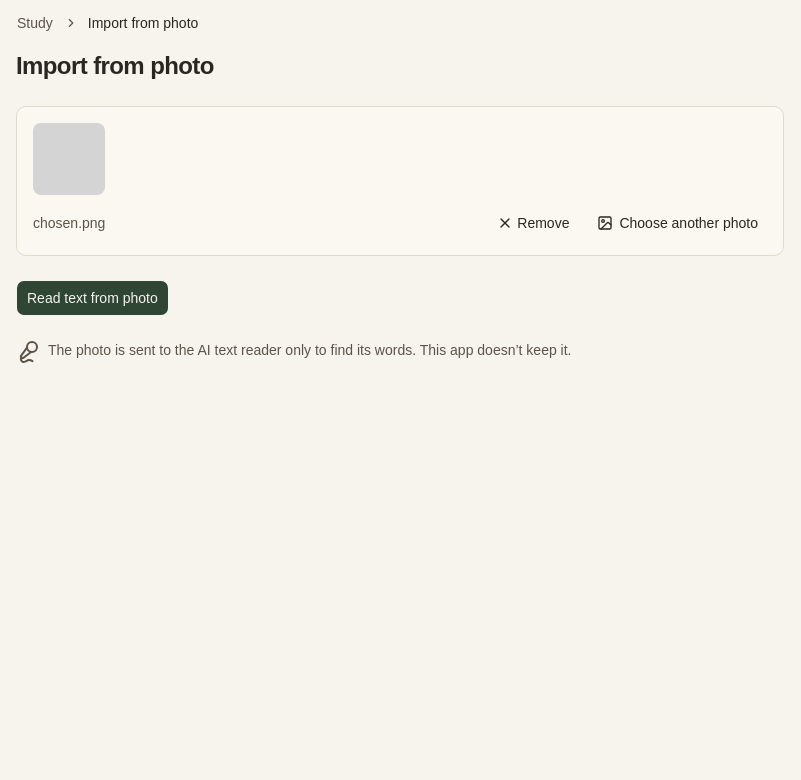
Test: restored study flows › removes a selected photo with Remove and releases its object URL
The width and height of the screenshot is (801, 780).
What coordinates should you click on to do the following:
click the button "Remove"
I would click on:
 (533, 223)
Its box is x1=486 y1=207 x2=580 y2=239.
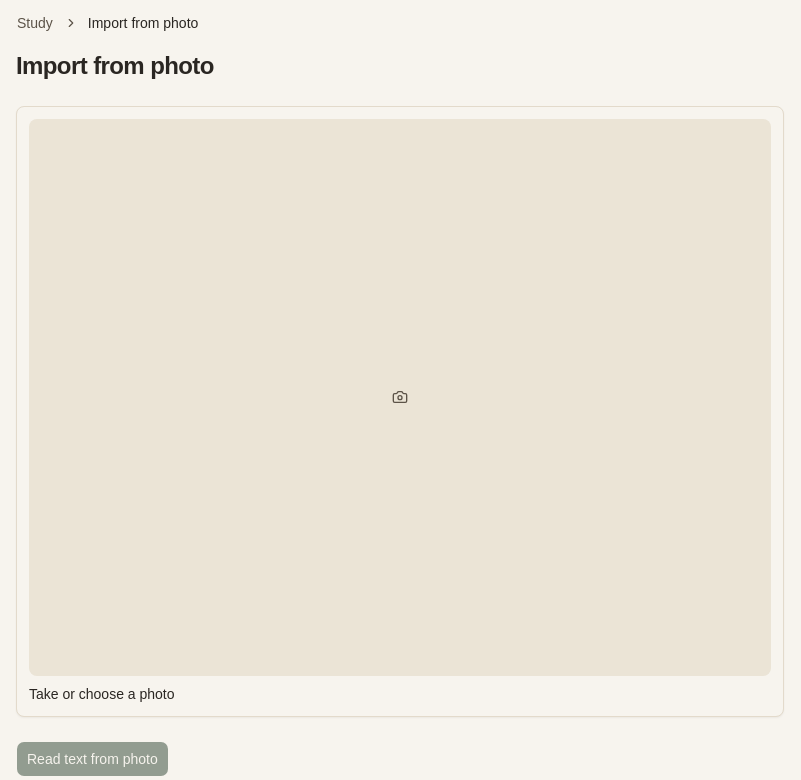
Expected: the button "Take or choose a photo" is shown
Expected: the picture is gone
